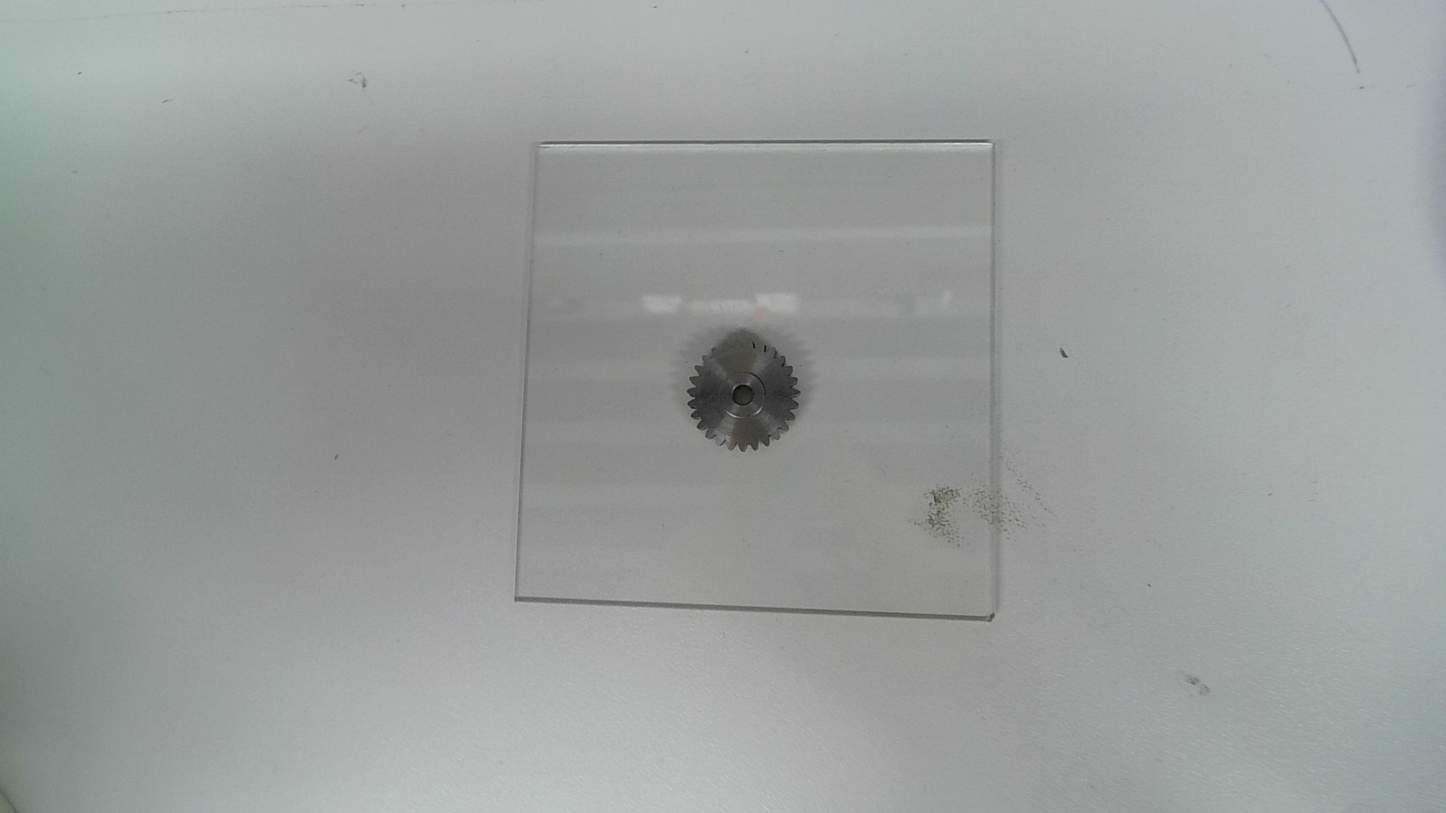gear: (686, 337, 803, 455)
